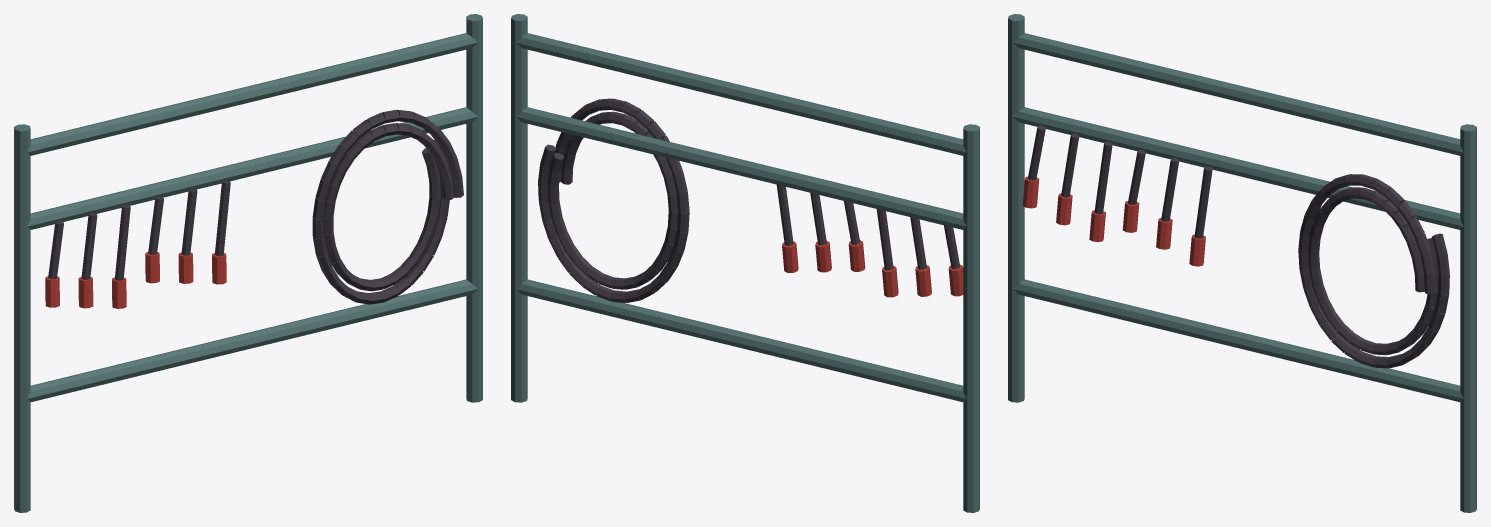
The model's file is WorkshopRacks.gltf.
The picture shows the model from 3 angles, left to right: view 1: azimuth 30°, elevation 25°; view 2: azimuth 150°, elevation 25°; view 3: azimuth 330°, elevation 25°; orthographic projection.
Visible parts, largest first — view 1: WorkshopRacks; view 2: WorkshopRacks; view 3: WorkshopRacks.
Part boxes in pixels (x1=…): WorkshopRacks: x1=14, y1=14, x2=482, y2=512; WorkshopRacks: x1=511, y1=14, x2=979, y2=512; WorkshopRacks: x1=1008, y1=14, x2=1476, y2=512.
Bounding box in the file's own units: 2.24 × 1.75 × 0.17.
